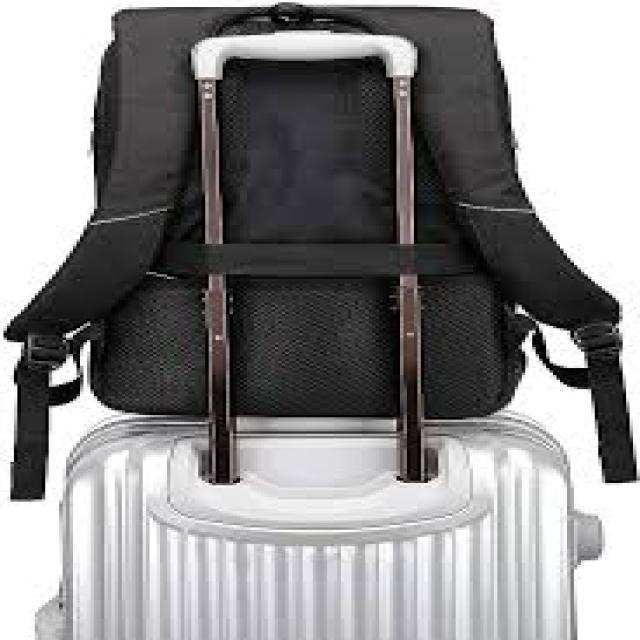backpack: (1, 1, 638, 496)
